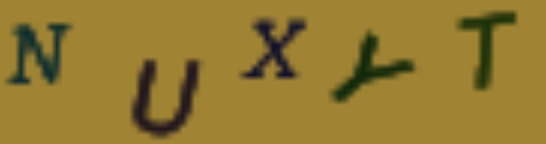N: (4, 16, 74, 93)
T: (447, 8, 521, 95)
U: (124, 54, 208, 142)
X: (234, 11, 315, 80)
Y: (327, 25, 415, 108)
